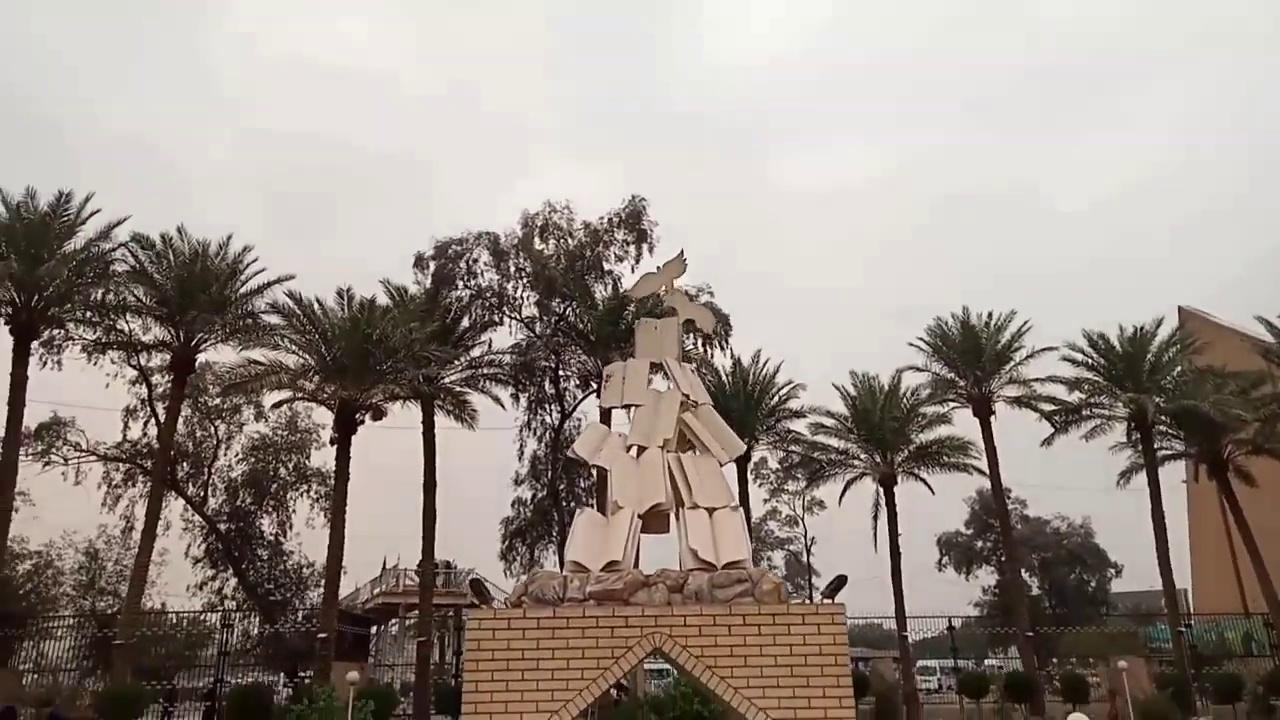tree: (414, 192, 736, 581), (26, 221, 299, 651), (215, 279, 440, 693), (1036, 314, 1211, 717), (899, 304, 1063, 717), (797, 366, 984, 718), (369, 276, 511, 718), (0, 182, 133, 570), (934, 483, 1123, 714), (1158, 361, 1279, 661), (688, 346, 810, 566), (754, 450, 829, 603), (1000, 668, 1041, 718), (1207, 670, 1246, 718), (955, 667, 991, 718), (1056, 668, 1090, 712)
